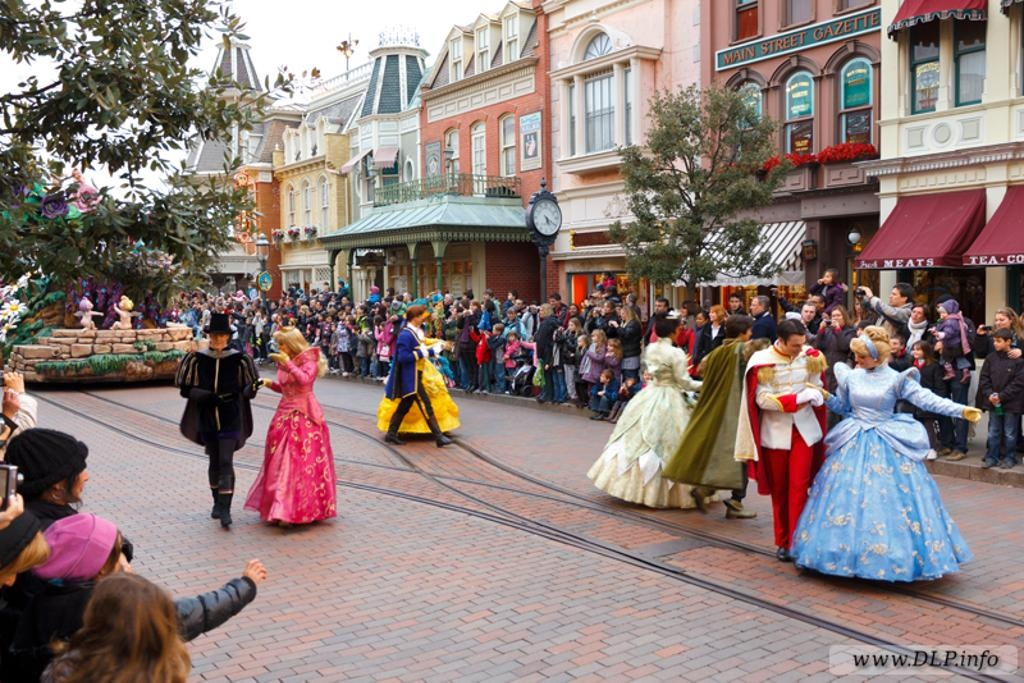human_face: (105, 538, 135, 594), (59, 457, 87, 501), (784, 335, 804, 355), (209, 327, 227, 347), (854, 350, 872, 366), (276, 339, 292, 355), (994, 314, 1008, 330), (670, 322, 680, 342), (993, 336, 1007, 350), (888, 290, 902, 304), (831, 310, 843, 326), (748, 298, 760, 314), (910, 308, 922, 322), (801, 306, 813, 320), (808, 296, 820, 310), (654, 300, 664, 314), (742, 326, 752, 338), (695, 314, 705, 326), (412, 312, 422, 324), (913, 344, 923, 355), (939, 307, 949, 317), (888, 340, 898, 350), (854, 298, 862, 310), (730, 298, 738, 310), (708, 308, 716, 320), (823, 272, 831, 282), (682, 304, 690, 314), (625, 376, 633, 386), (590, 332, 598, 340), (599, 373, 607, 381), (540, 306, 546, 316), (515, 300, 521, 310), (606, 341, 612, 350), (620, 310, 626, 318), (577, 337, 583, 345), (568, 322, 574, 330), (604, 303, 610, 311), (569, 306, 575, 314), (550, 299, 556, 307), (530, 304, 536, 312), (589, 295, 595, 303), (508, 332, 514, 340), (492, 326, 498, 334), (507, 310, 513, 318), (483, 292, 489, 300), (470, 302, 476, 310), (444, 297, 450, 305), (480, 302, 486, 310), (402, 294, 408, 302), (508, 292, 514, 298), (462, 294, 468, 300), (340, 298, 346, 304), (356, 308, 362, 314), (384, 299, 390, 305), (378, 324, 384, 330), (284, 298, 290, 304), (344, 304, 350, 310), (626, 294, 630, 302), (452, 308, 456, 316), (326, 316, 330, 322), (316, 303, 320, 309), (310, 300, 314, 306), (369, 288, 373, 294), (374, 306, 378, 312), (270, 302, 276, 306), (274, 314, 278, 320), (319, 294, 323, 298), (386, 290, 390, 294)
